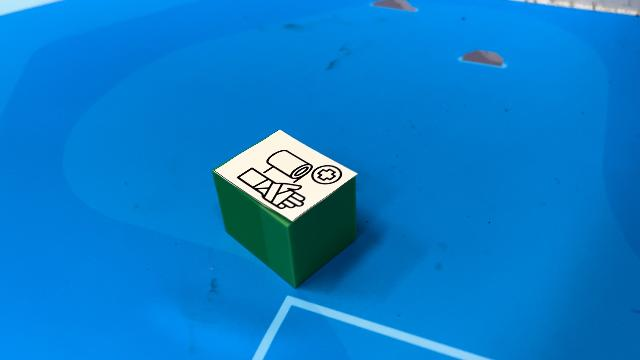bandage: (212, 128, 360, 288)
